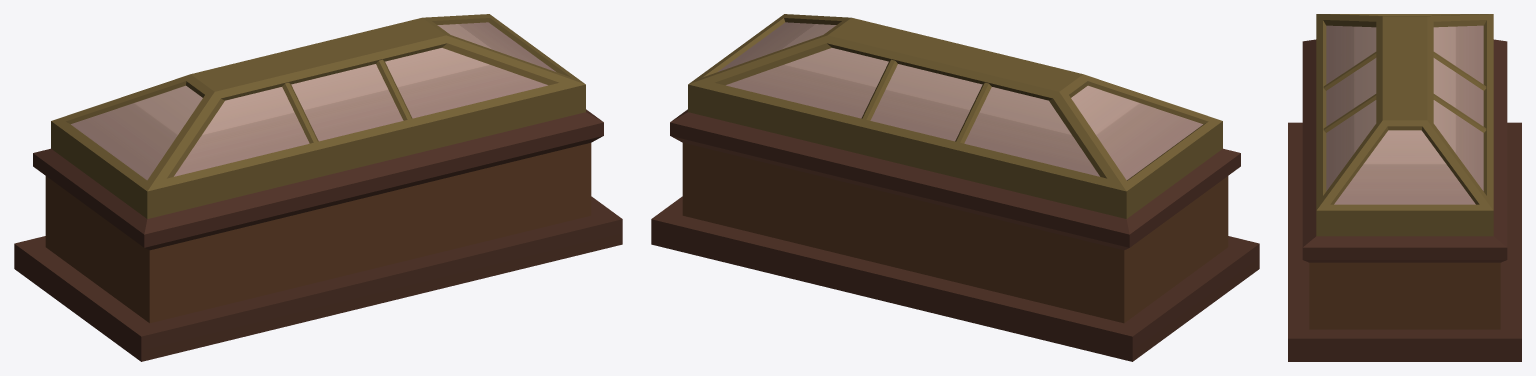
The model's file is RoofLights_2_D.fbx.
The picture shows the model from 3 angles, left to right: view 1: azimuth 30°, elevation 25°; view 2: azimuth 150°, elevation 25°; view 3: azimuth 270°, elevation 25°; orthographic projection. The views are drawn at different scales.
Visible parts, largest first — view 1: RoofLights_2_D; view 2: RoofLights_2_D; view 3: RoofLights_2_D.
Part boxes in pixels (x1,y1,x2,y2): RoofLights_2_D: (14, 14, 622, 361); RoofLights_2_D: (651, 14, 1259, 361); RoofLights_2_D: (1288, 14, 1521, 361).
Bounding box in the file's own units: 216 × 86.65 × 98.88.
